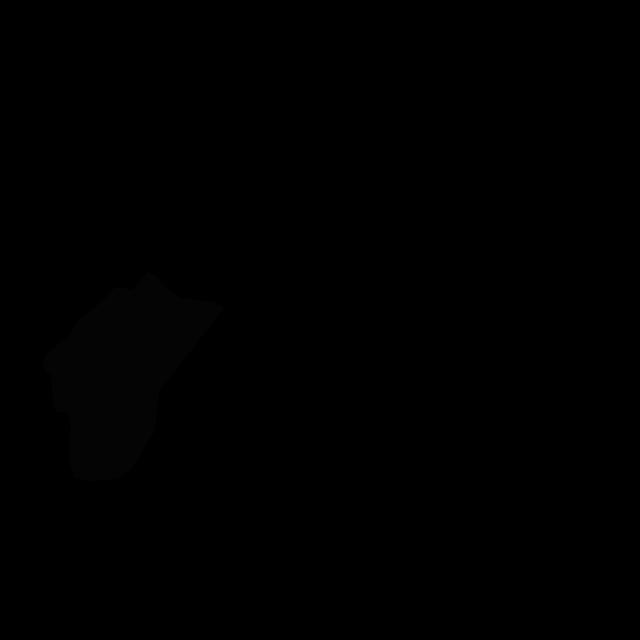soft_plastic: (42, 272, 224, 481)
